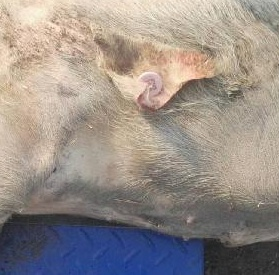text: (118, 52, 179, 112)
